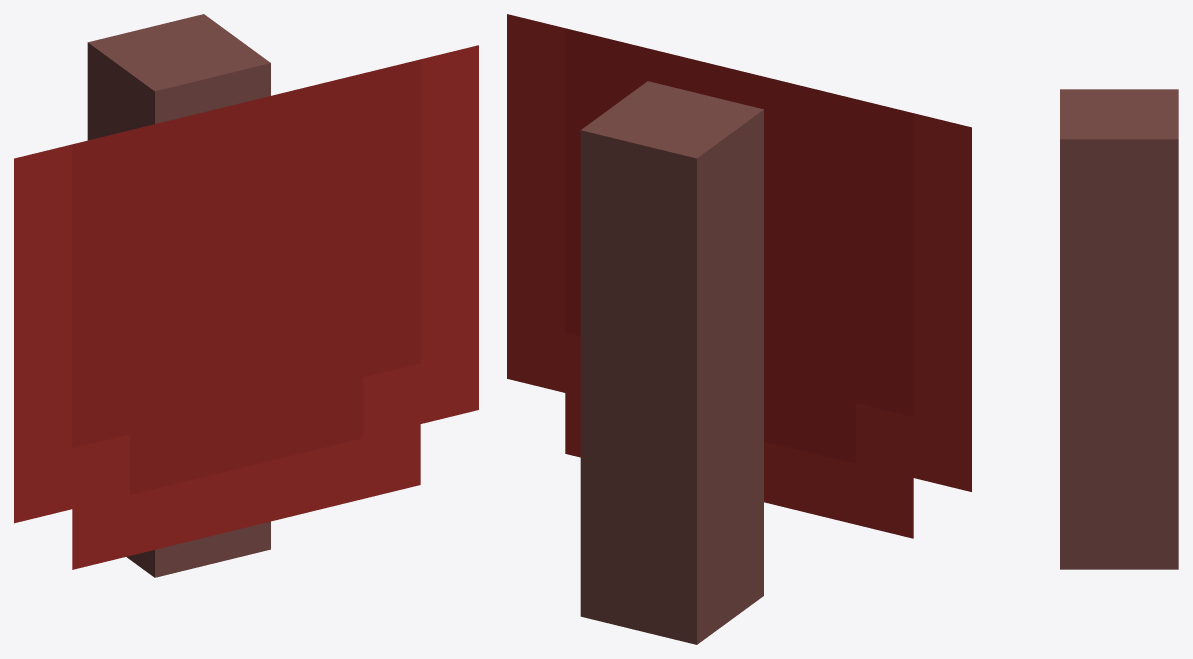
The model's file is Red Banner.glb.
3 renders of one model, left to right at view 1: azimuth 30°, elevation 25°; view 2: azimuth 150°, elevation 25°; view 3: azimuth 270°, elevation 25°, orthographic. The views are drawn at different scales.
Visible parts, largest first — view 1: cube; view 2: cube; view 3: cube.
Part boxes in pixels (x1,y1,x2,y2): cube: [14, 14, 478, 577]; cube: [507, 14, 971, 644]; cube: [1060, 89, 1178, 569].
Size of the model in its own units: 1 by 1 by 0.3751.
1 material, 1 textured.
